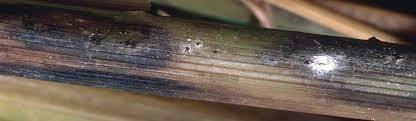Stem Rot: (3, 0, 416, 121)
